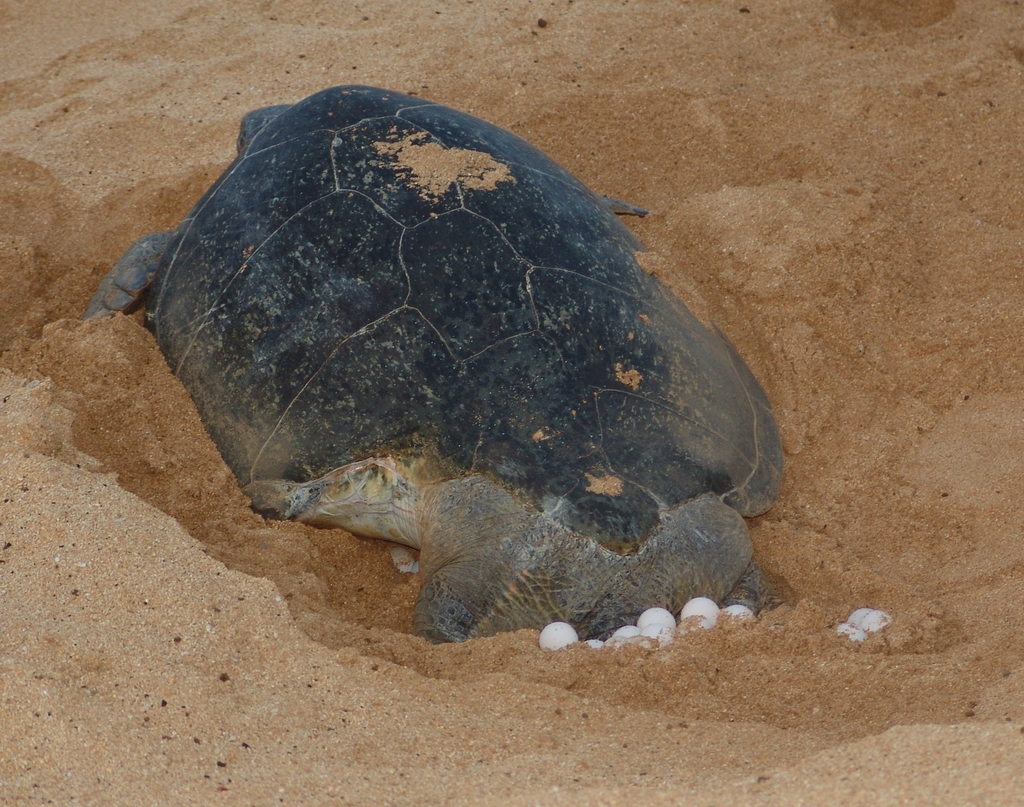Sea turtles: (79, 78, 785, 645)
